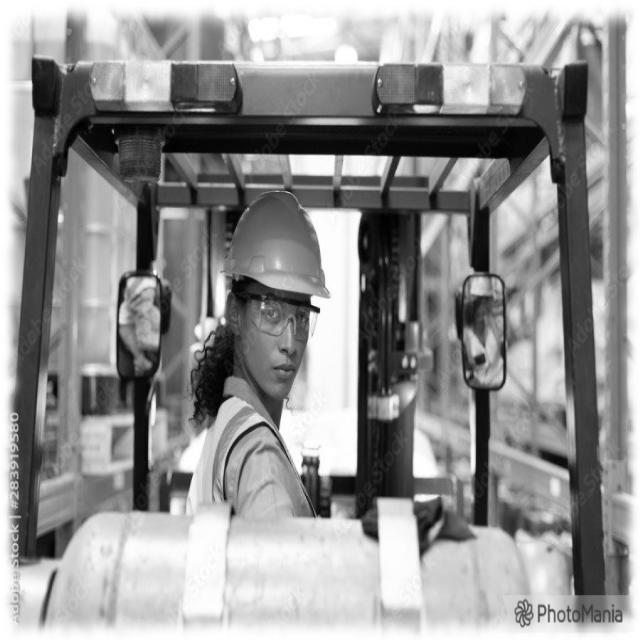Goggles: (243, 289, 325, 339), (241, 331, 302, 393)
